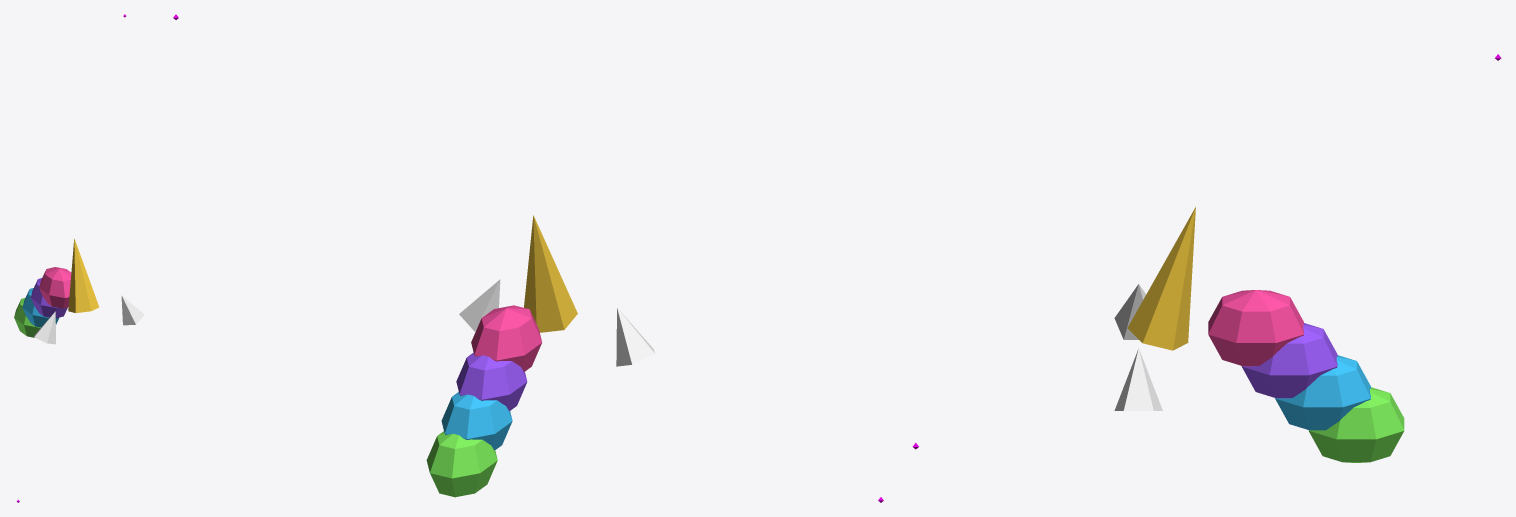
The model's file is acc_unicorn.fbx.
3 renders of one model, left to right at view 1: azimuth 30°, elevation 25°; view 2: azimuth 150°, elevation 25°; view 3: azimuth 270°, elevation 25°, orthographic. The views are drawn at different scales.
Parts seen in each view (by area): view 1: Horn, Mane1, Ears, Mane2, Mane3, Mane4; view 2: Mane4, Horn, Mane1, Mane2, Mane3, Ears; view 3: Mane1, Horn, Mane4, Mane2, Mane3, Ears.
Boxes of the visible parts, x1,y1,x2,y2 form: Horn: [68, 238, 99, 312]; Mane1: [39, 267, 71, 308]; Ears: [34, 295, 144, 344]; Mane2: [31, 278, 67, 318]; Mane3: [22, 288, 58, 327]; Mane4: [14, 298, 40, 337]; Mane4: [426, 431, 497, 497]; Horn: [524, 215, 577, 332]; Mane1: [471, 305, 542, 371]; Mane2: [456, 352, 527, 410]; Mane3: [441, 392, 512, 450]; Ears: [459, 279, 654, 366]; Mane1: [1208, 290, 1303, 366]; Horn: [1127, 207, 1195, 350]; Mane4: [1308, 387, 1404, 462]; Mane2: [1241, 323, 1337, 398]; Mane3: [1275, 355, 1370, 430]; Ears: [1114, 284, 1162, 410].
Size of the model in its own units: 2.99 by 3.6 by 2.99.
